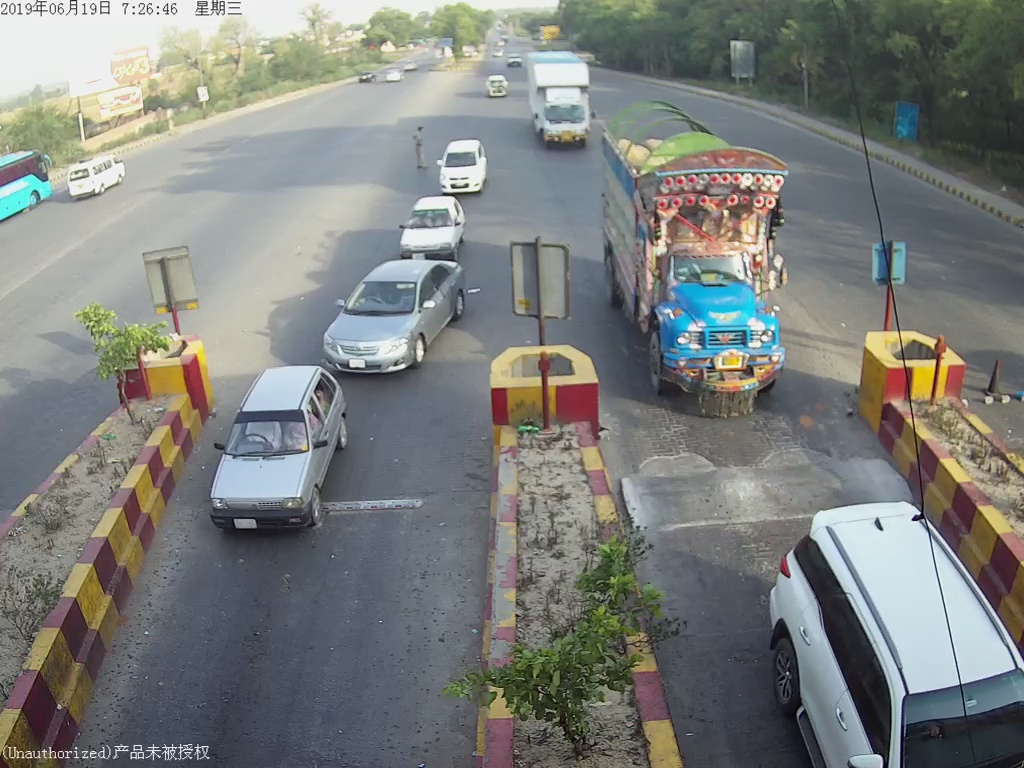Cat-1: (209, 364, 352, 533), (314, 262, 471, 369), (393, 198, 462, 259), (434, 131, 490, 195)
Cat-4: (607, 102, 807, 424), (526, 48, 595, 160)
